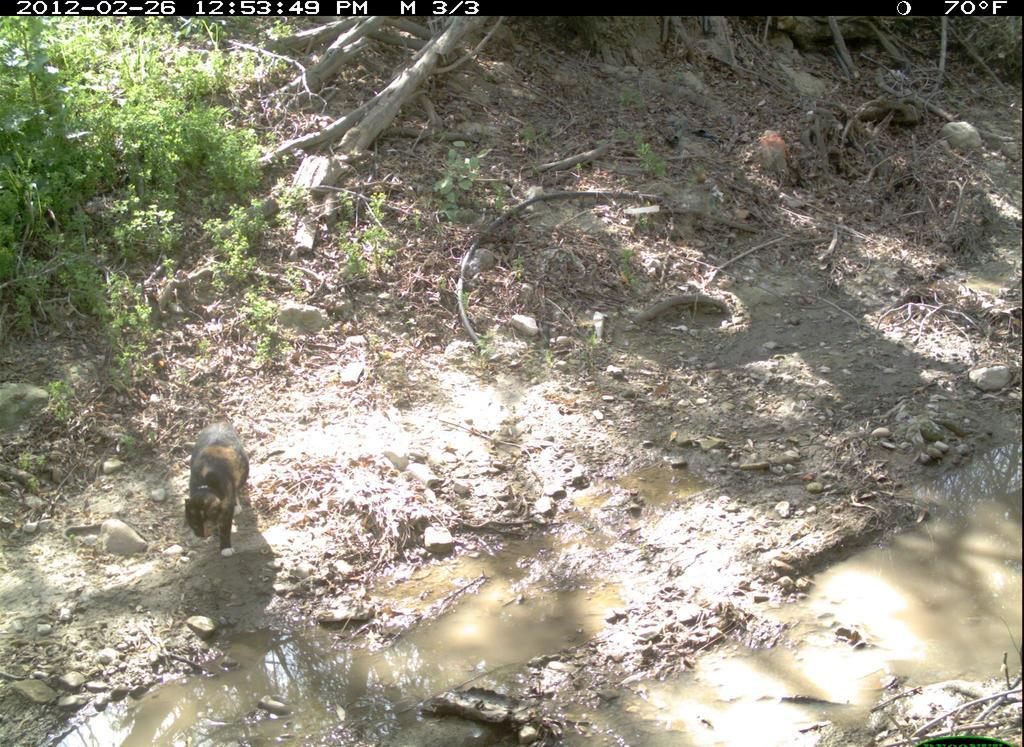cat: (177, 414, 259, 565)
